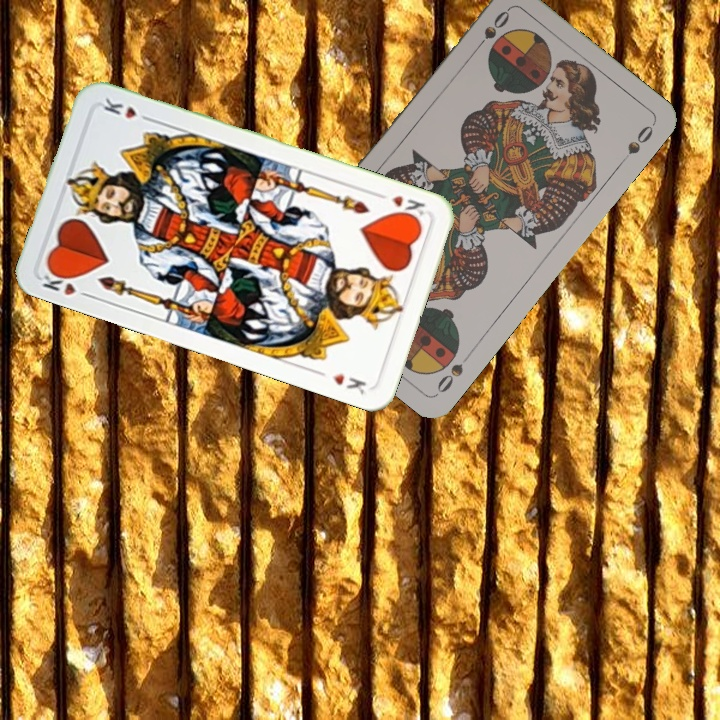HK: (38, 264, 95, 301), (372, 188, 428, 224)
SO: (470, 5, 513, 55), (432, 348, 475, 396)
